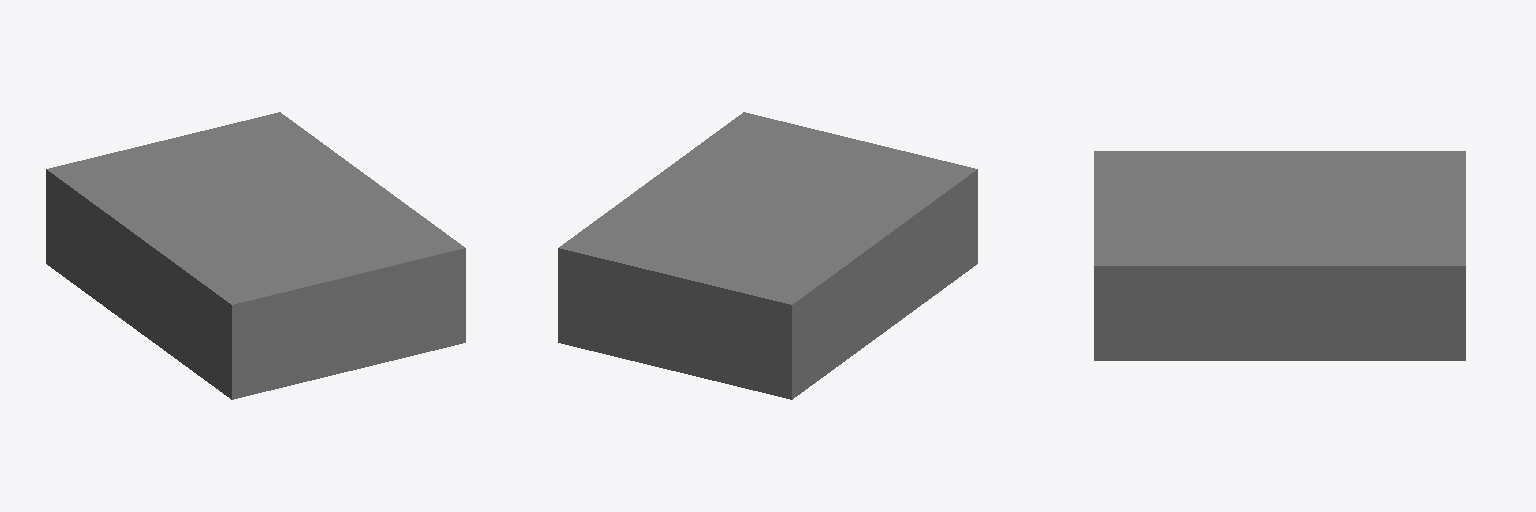
File: HockeyArenaIII.obj
3 renders of one model, left to right at view 1: azimuth 30°, elevation 25°; view 2: azimuth 150°, elevation 25°; view 3: azimuth 270°, elevation 25°, orthographic.
Visible parts, largest first — view 1: pCube8, Bleacher_Chunk_Small3:pPlane1, pPlane7, Bleacher_Chunk_Small1:pPlane1, pPlane6, pPlane5, Bleacher_Stairs_Small3:pPlane1; view 2: pCube8, Bleacher_Chunk_Small2:pPlane1, pPlane4, pPlane6, pPlane5, Bleacher_Chunk_Small1:pPlane1, Bleacher_Stairs_Small2:pPlane1; view 3: pCube8, pPlane3, Bleacher_Chunk_Small:pPlane1, pPlane2.
Boxes of the visible parts, <box> form: pCube8: <box>46,112,465,399</box>; Bleacher_Chunk_Small3:pPlane1: <box>349,295,406,368</box>; pPlane7: <box>290,309,348,383</box>; Bleacher_Chunk_Small1:pPlane1: <box>122,257,155,341</box>; pPlane6: <box>163,287,195,370</box>; pPlane5: <box>82,228,114,311</box>; Bleacher_Stairs_Small3:pPlane1: <box>407,297,418,355</box>; pCube8: <box>558,112,977,399</box>; Bleacher_Chunk_Small2:pPlane1: <box>617,295,674,369</box>; pPlane4: <box>675,309,733,383</box>; pPlane6: <box>909,228,941,311</box>; pPlane5: <box>828,288,860,370</box>; Bleacher_Chunk_Small1:pPlane1: <box>868,257,901,341</box>; Bleacher_Stairs_Small2:pPlane1: <box>605,296,616,355</box>; pCube8: <box>1094,151,1465,360</box>; pPlane3: <box>1327,298,1394,358</box>; Bleacher_Chunk_Small:pPlane1: <box>1246,298,1313,358</box>; pPlane2: <box>1165,298,1232,358</box>.
Bounding box in the file's own units: 40 × 15.5 × 55.